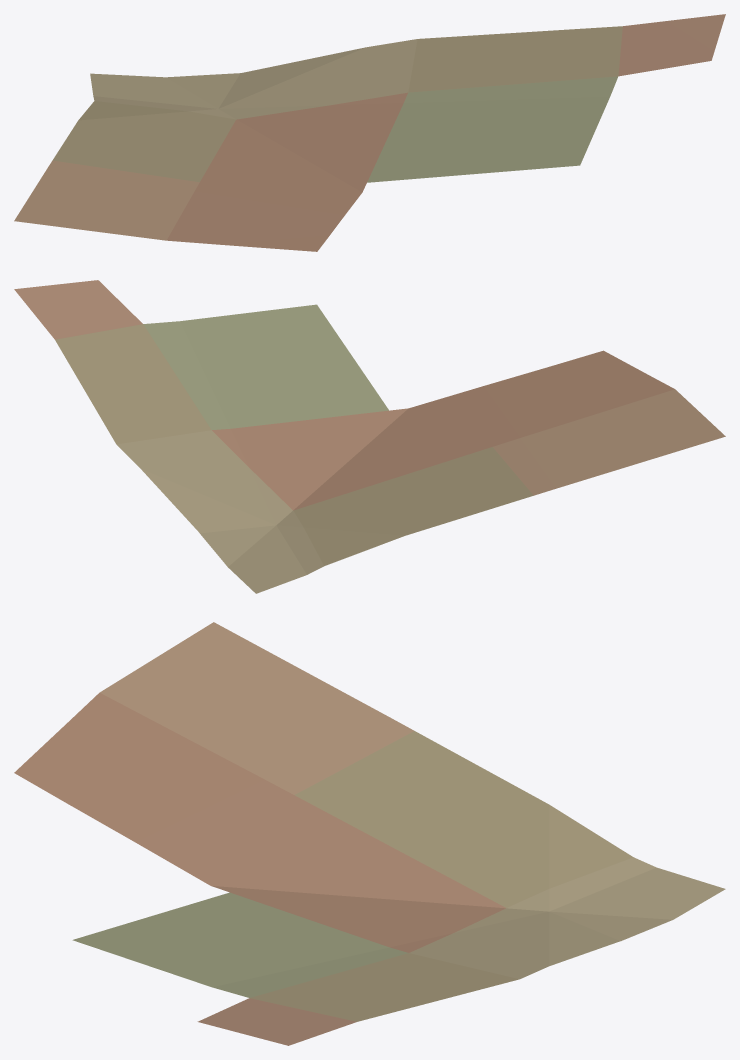
Rendered from farm_0_-2_soil.glb.
The picture shows the model from 3 angles, top to bottom: view 1: azimuth 30°, elevation 25°; view 2: azimuth 150°, elevation 25°; view 3: azimuth 270°, elevation 25°; orthographic projection. The views are drawn at different scales.
Visible parts, largest first — view 1: geometry_0; view 2: geometry_0; view 3: geometry_0.
Boxes of the visible parts, x1=… form: geometry_0: x1=14, y1=14, x2=725, y2=251; geometry_0: x1=14, y1=280, x2=725, y2=593; geometry_0: x1=14, y1=622, x2=725, y2=1045.
Size of the model in its own units: 168 by 18.62 by 118.
